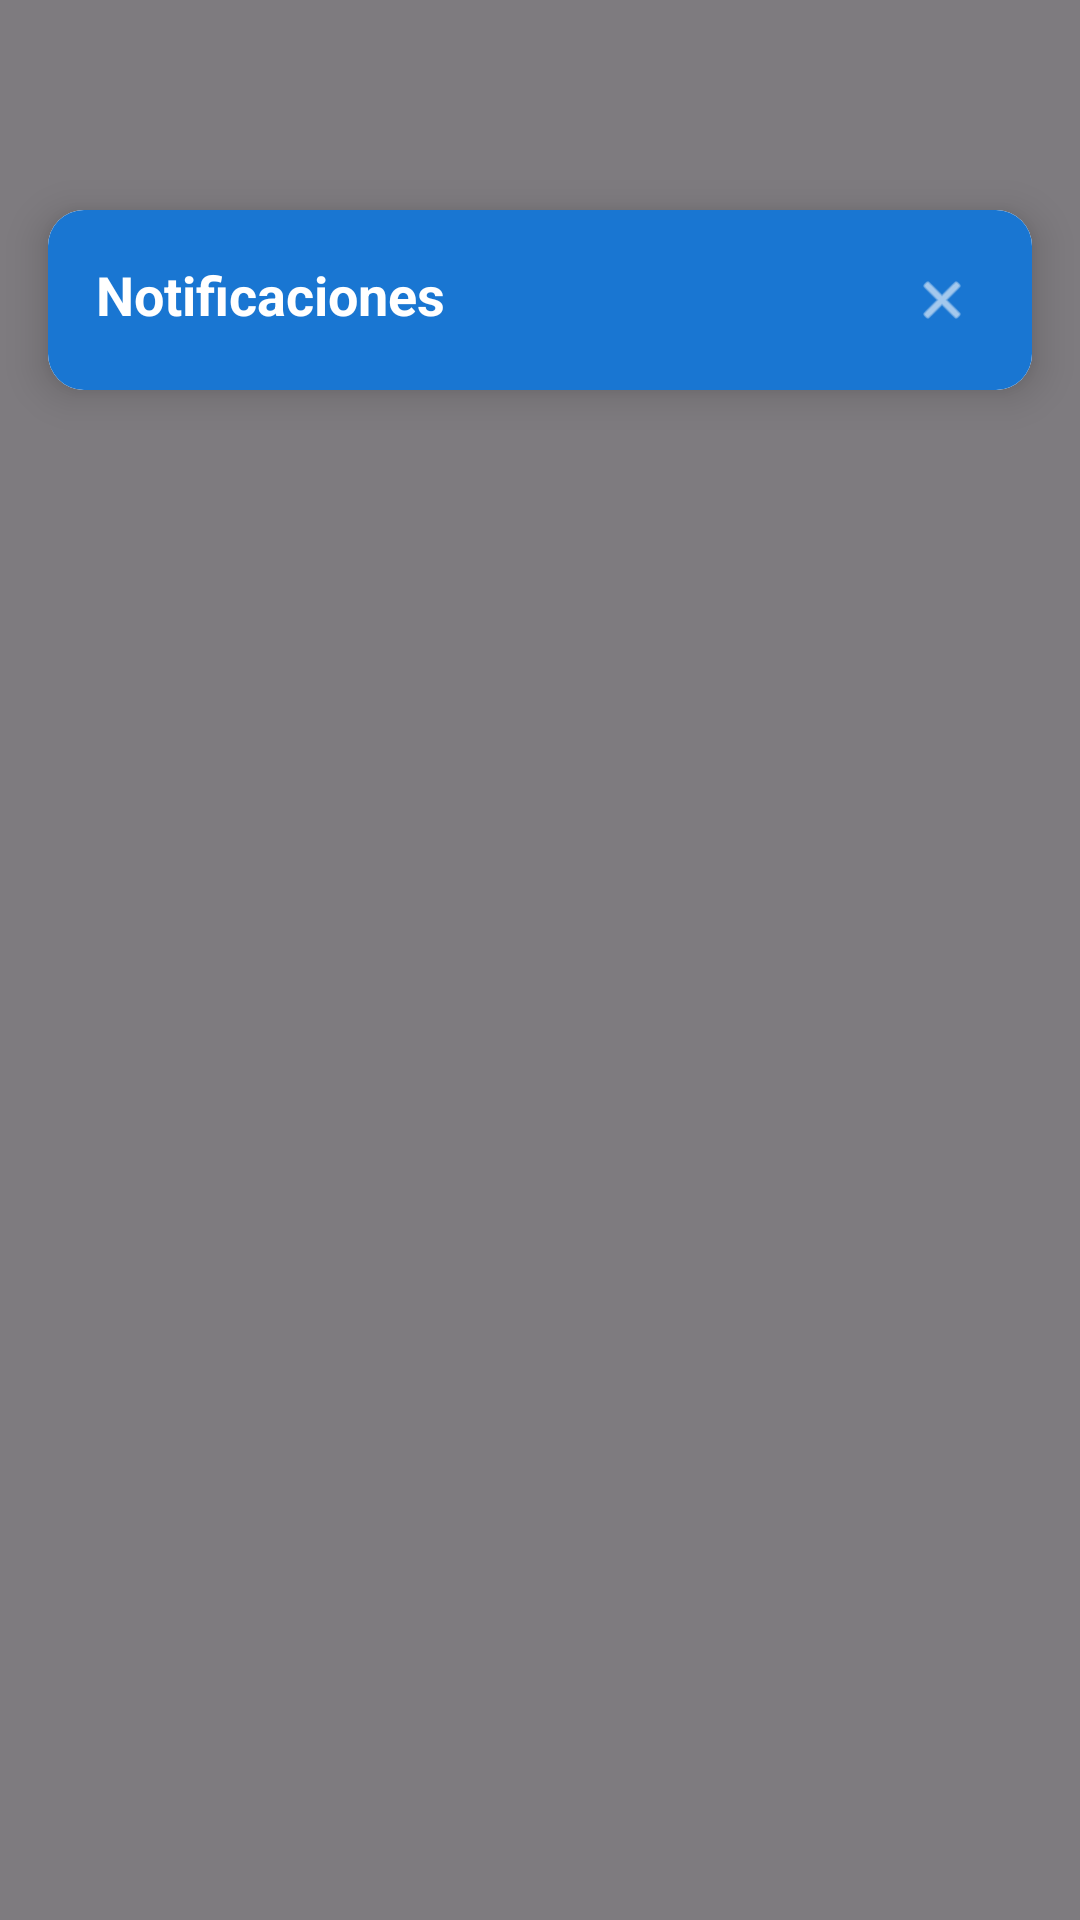

Named icons in this screenshot (1080 x 1920) and their centers, point (x, y):
Cerrar: point (942, 300)
